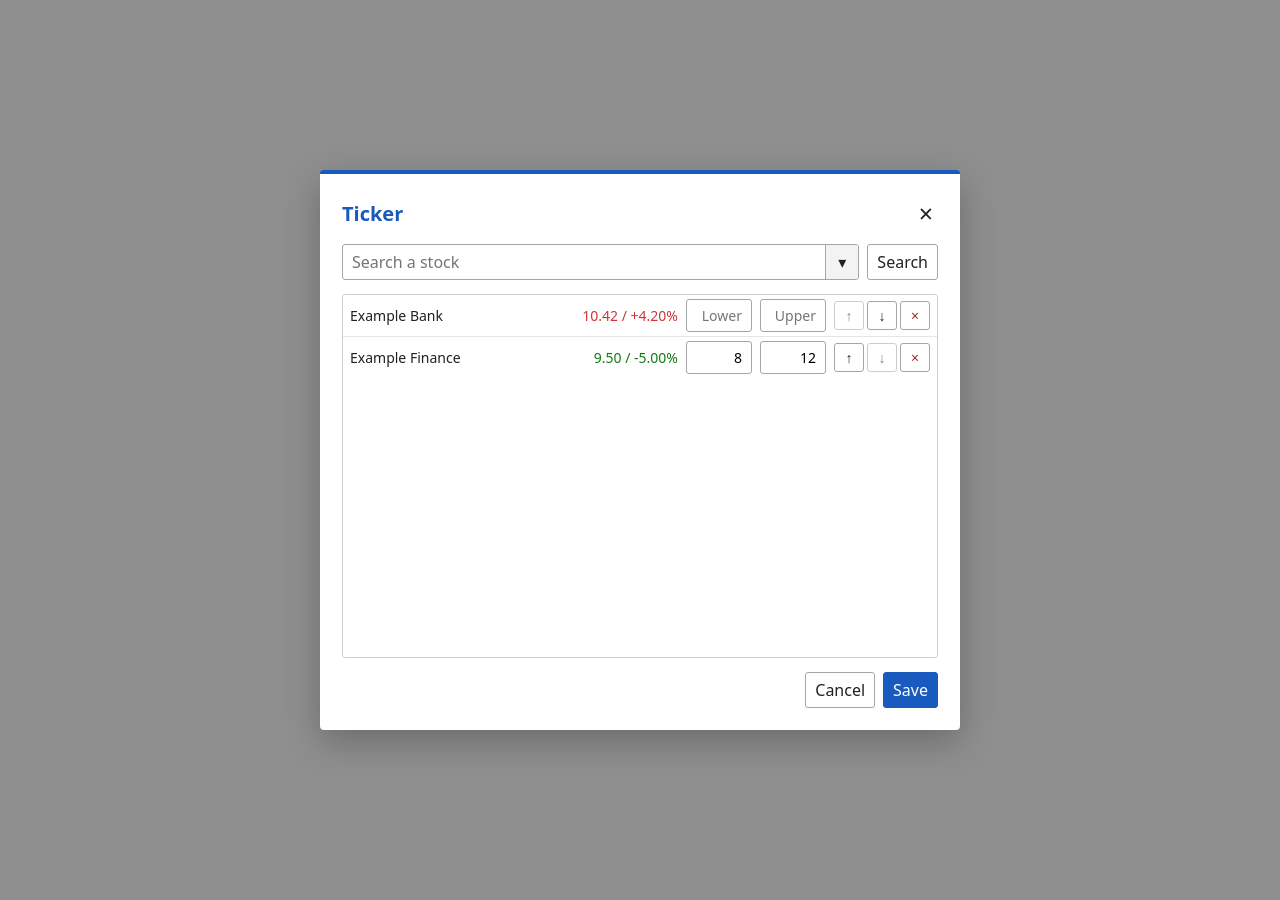
Test: Ticker settings › lists ledger stocks from the search down arrow with Add and Added states
Expected: the text "Example Bank" is shown, [350, 306, 443, 325]
Click the button named "Show existing stocks": (842, 262) [825, 245, 858, 279]
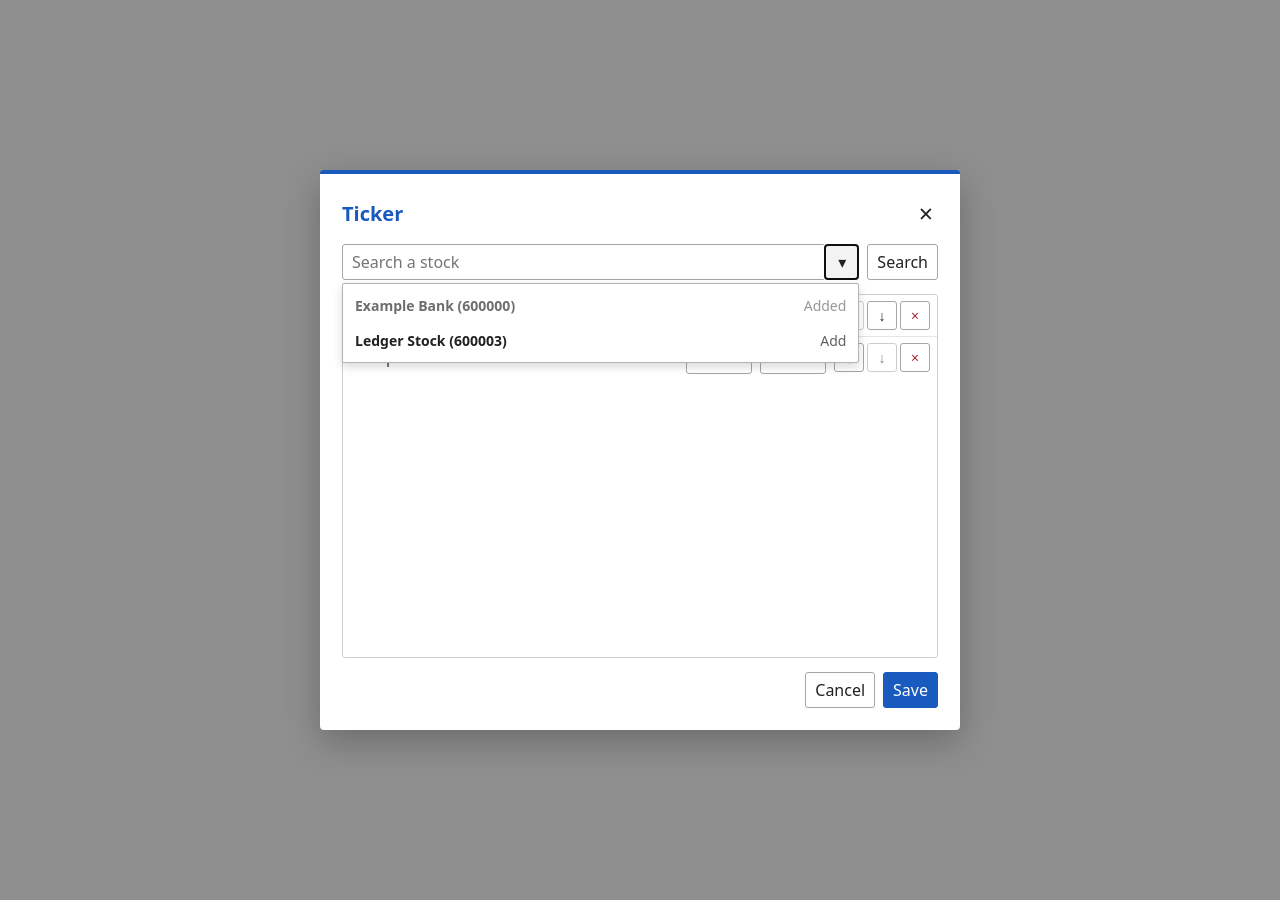
Expected: the text "Ledger Stock (600003)" is shown, [355, 331, 507, 350]
Expected: the button "Example Bank (600000) Added" is disabled, [347, 288, 854, 323]
Click the button "Ledger Stock (600003) Add": (400, 340) [347, 323, 854, 358]
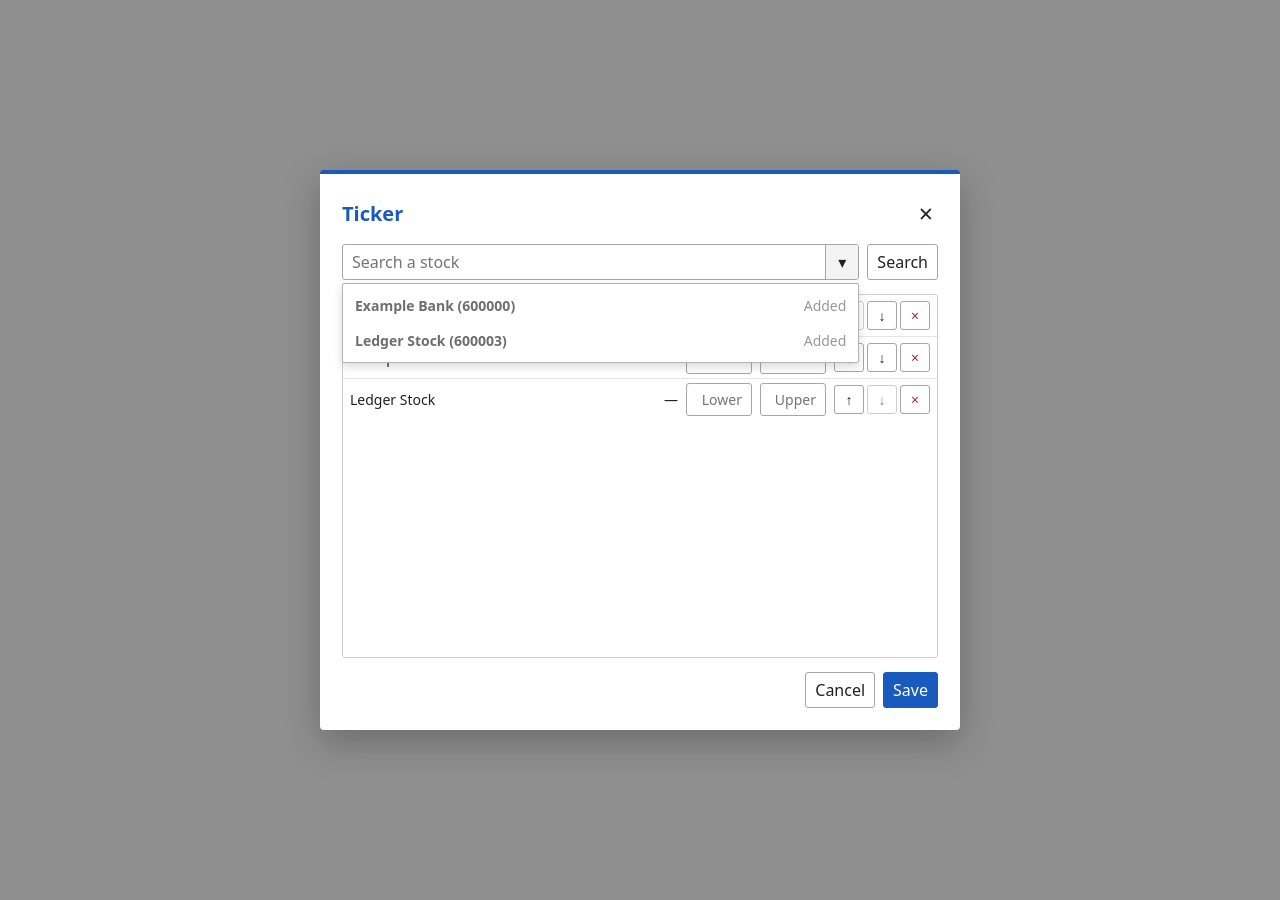
Expected: the list with class "ticker-results" is shown, [342, 283, 859, 363]
Expected: the number of buttons "Example Bank (600000) Added" is 2, [347, 288, 854, 323]; [347, 323, 854, 358]
Expected: the text "Ledger Stock" is shown, [350, 390, 435, 409]
